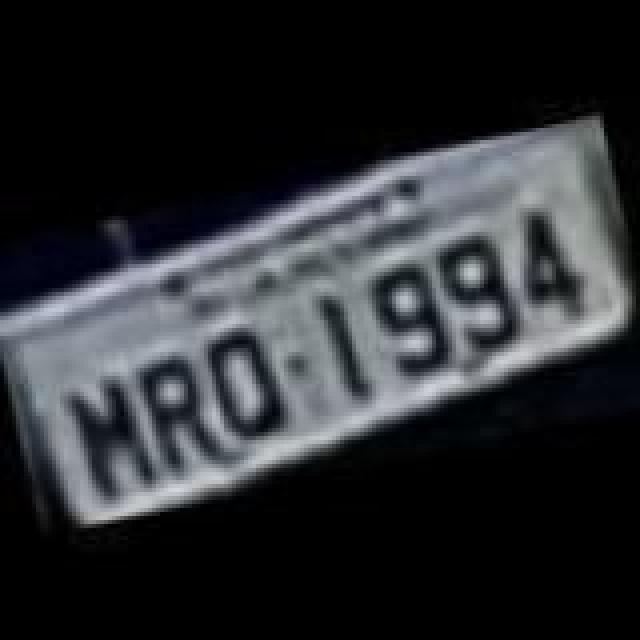1: (308, 280, 380, 400)
4: (500, 198, 600, 326)
9: (428, 220, 532, 356), (360, 250, 456, 378)
M: (62, 370, 166, 506)
O: (196, 314, 292, 446)
R: (134, 340, 230, 476)
